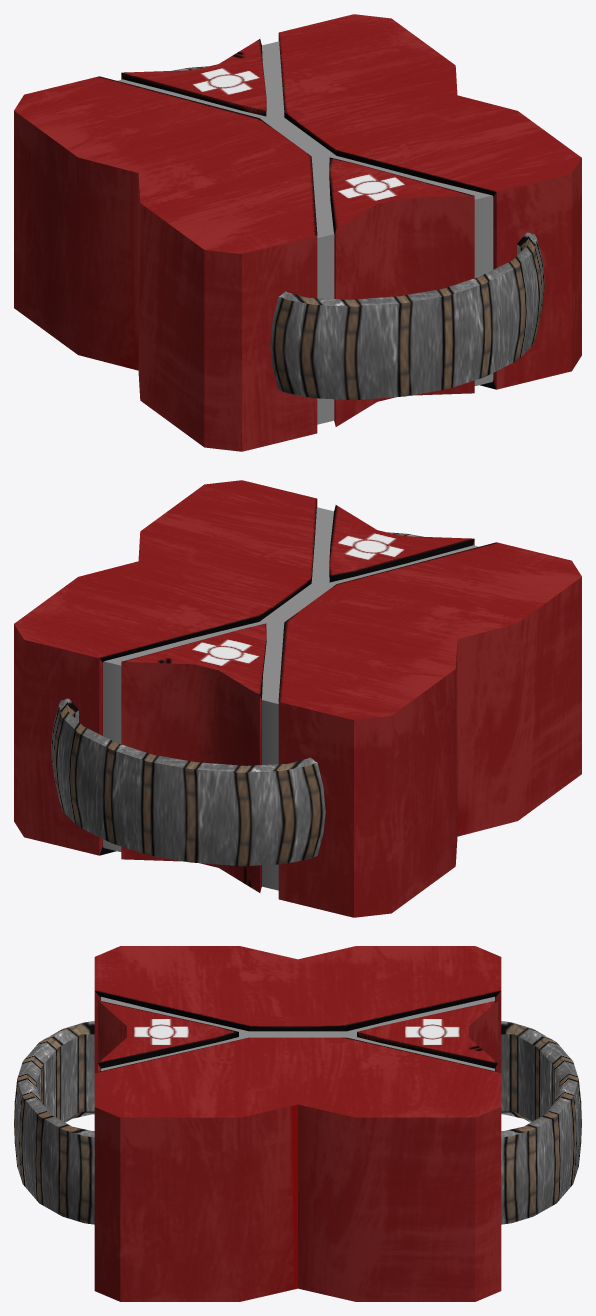
File: Health Pack.FBX
3 views of the same model, one above another, from view 1: azimuth 30°, elevation 25°; view 2: azimuth 150°, elevation 25°; view 3: azimuth 270°, elevation 25° (orthographic). The views are drawn at different scales.
Parts seen in each view (by area): view 1: Box001, Box002; view 2: Box001, Box002; view 3: Box001, Box002.
Boxes of the visible parts, x1,y1,x2,y2 form: Box001: (14,14,581,451); Box002: (117,41,493,424); Box001: (14,480,581,917); Box002: (103,507,478,890); Box001: (14,946,581,1301); Box002: (101,996,494,1070).
Size of the model in its own units: 15.75 by 7.87 by 22.01.
